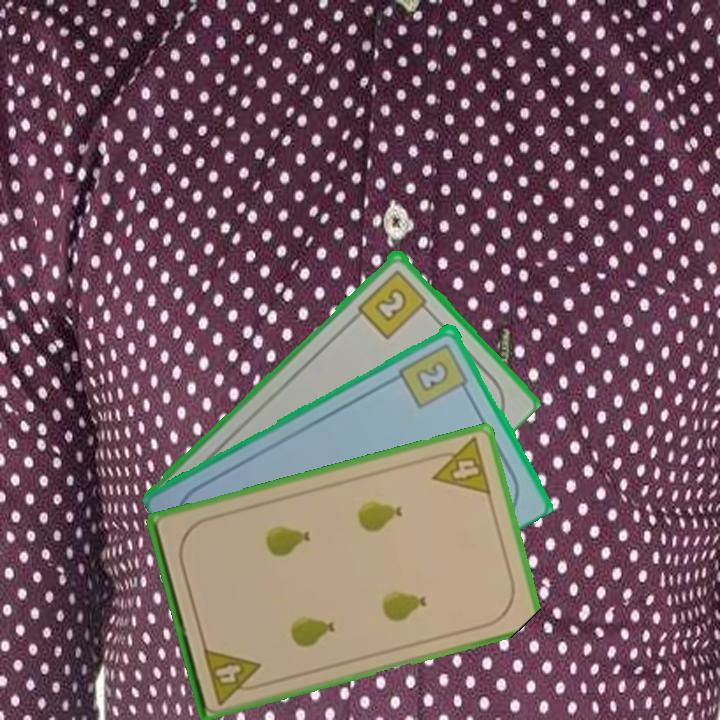2b: (354, 266, 434, 341), (395, 339, 473, 411)
4p: (424, 434, 494, 498), (200, 643, 268, 707)
